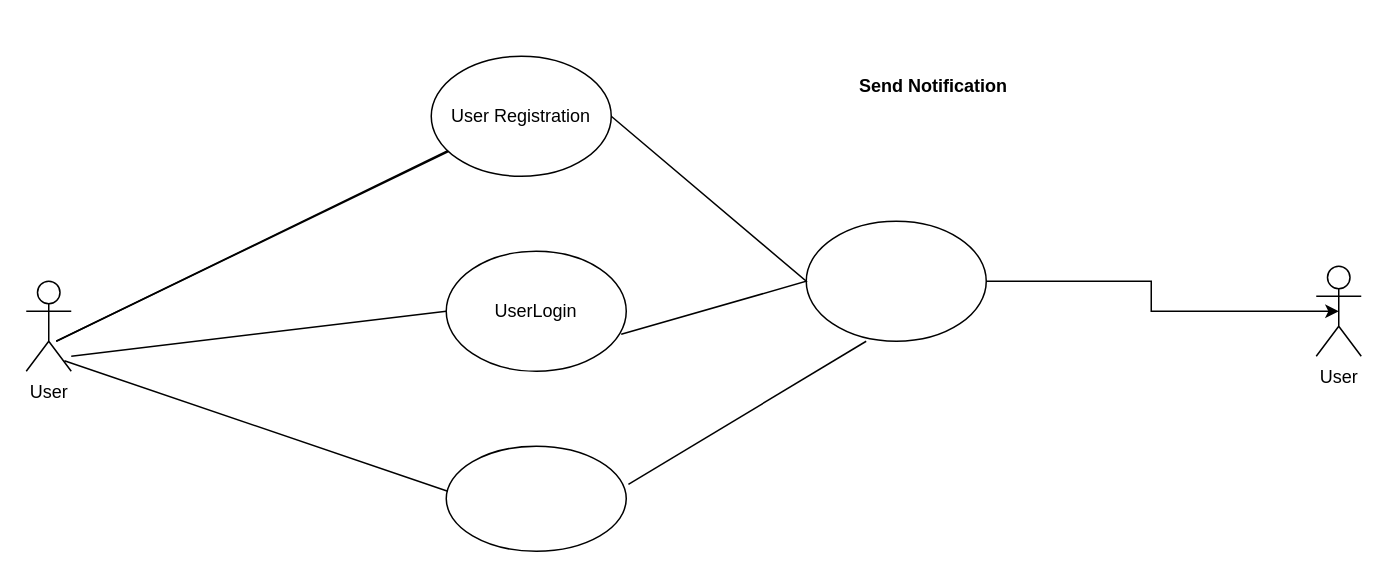
Some shapes in this 1388 by 578 pixel diagram are drawn without their labels. The shapes that lost their labels are listed below. From the top down, each one's box as (x1, y1, x2, y2) in pixels, then its label:
(805, 220, 986, 341): Sent Email/sms
(445, 445, 626, 551): Ticket Booking Confirmation
